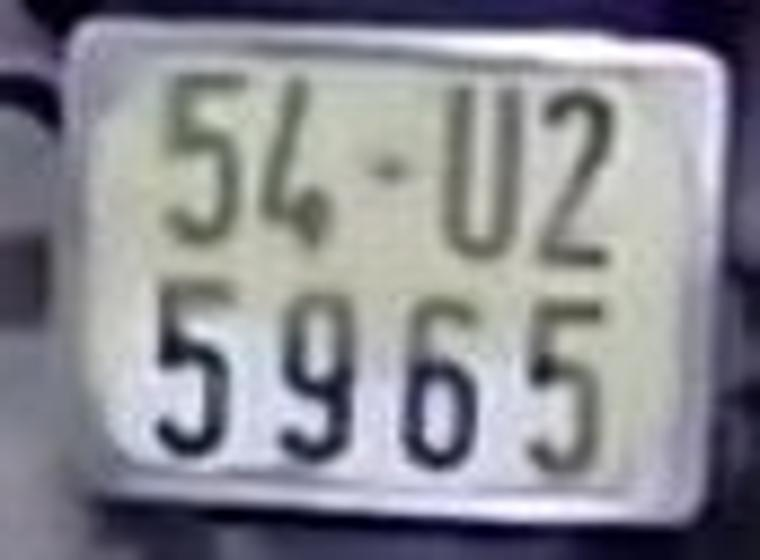-: (370, 147, 415, 191)
2: (546, 79, 613, 271)
4: (263, 79, 339, 250)
5: (154, 267, 238, 458), (529, 287, 612, 473), (162, 66, 243, 247)
6: (401, 284, 496, 476)
9: (280, 276, 377, 469)
U: (441, 77, 526, 264)
